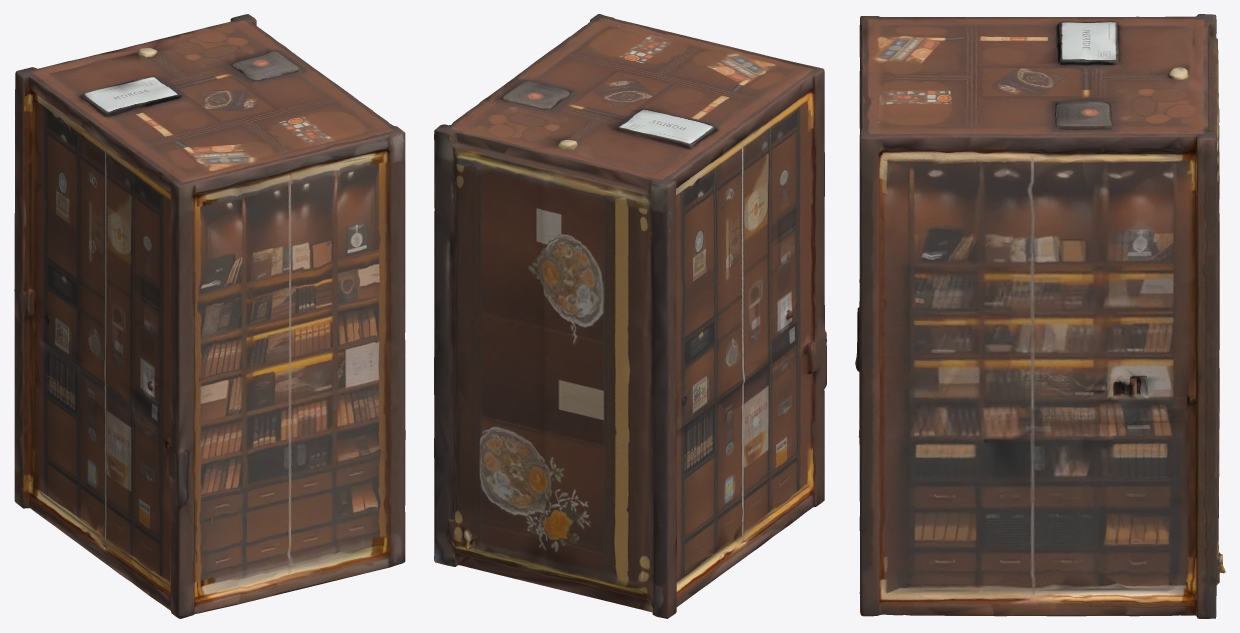
Rendered from cigar-walk-in-humidor.glb.
3 views of the same model, side by side, from view 1: azimuth 30°, elevation 25°; view 2: azimuth 150°, elevation 25°; view 3: azimuth 270°, elevation 25° (orthographic). The views are drawn at different scales.
Bounding box in the file's own units: 1.13 × 2 × 1.38.
Materials: 1 (1 with a texture image).
